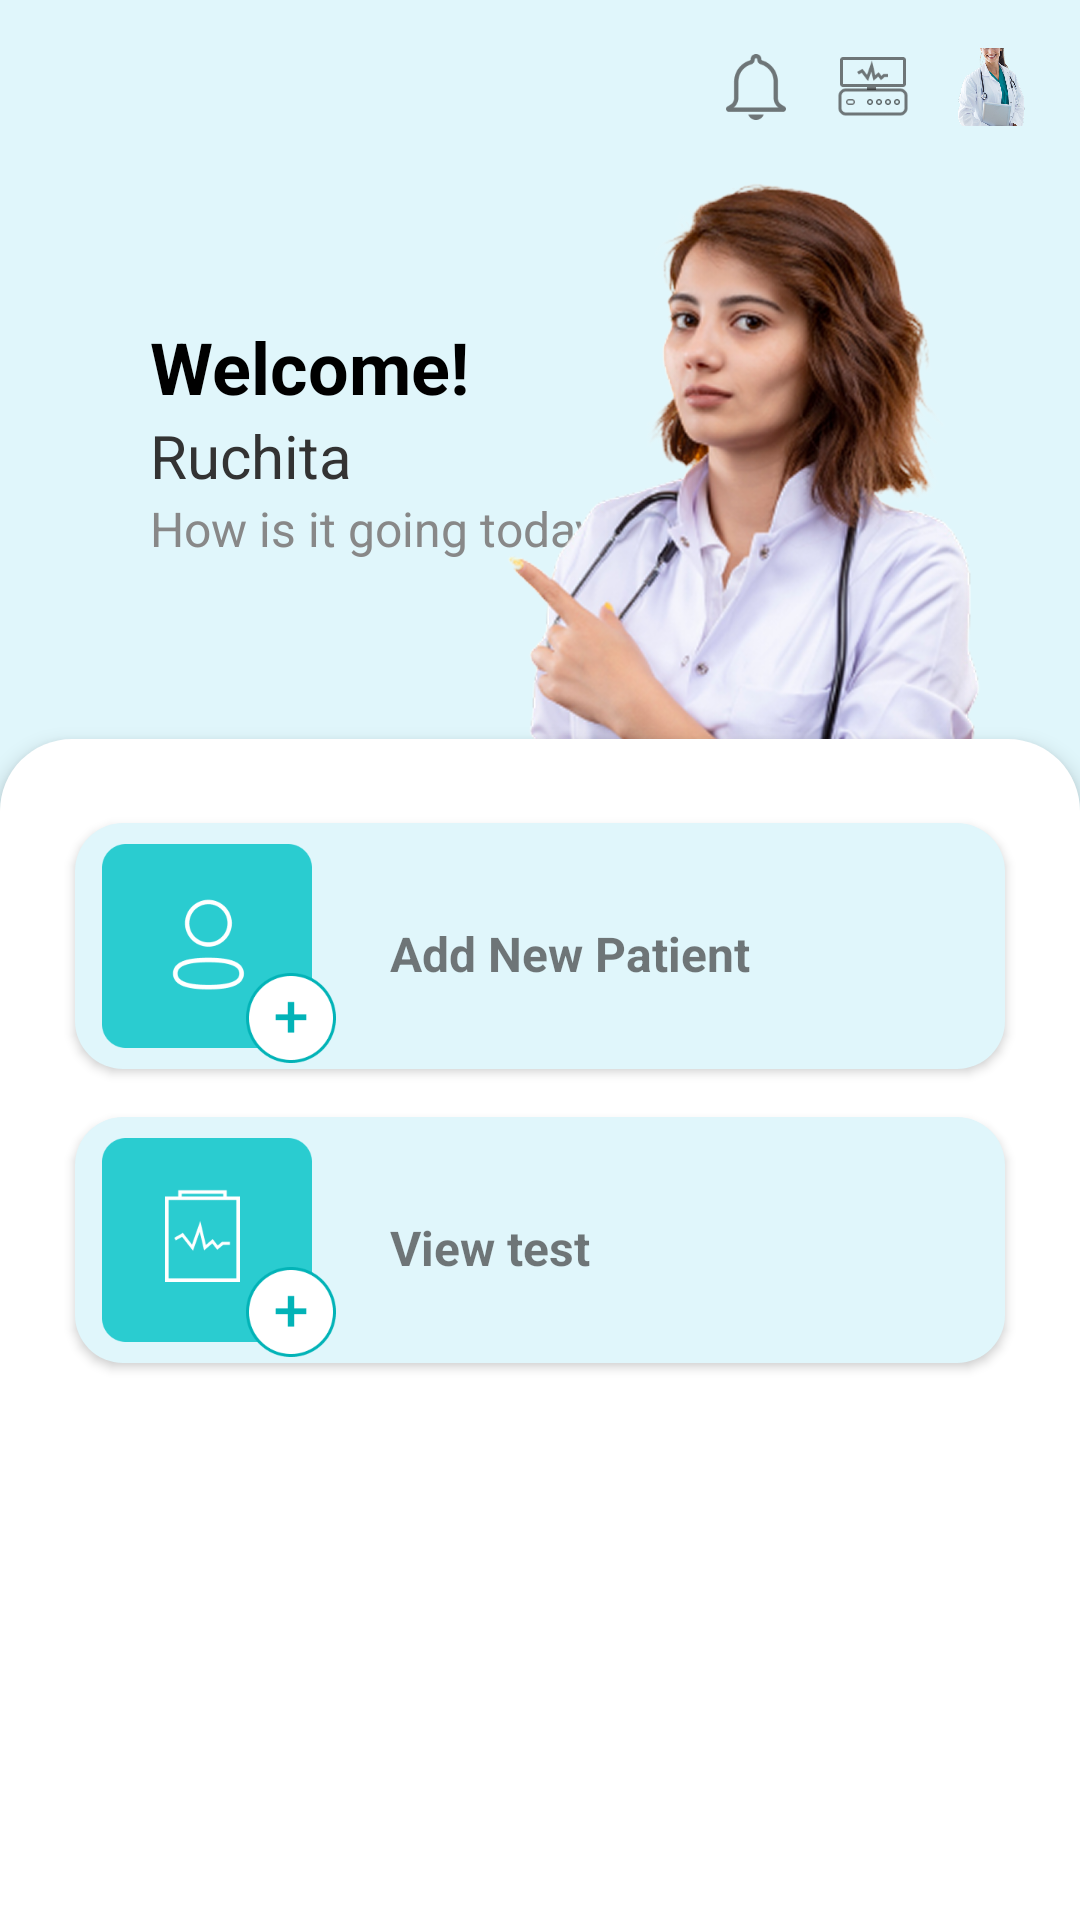

Icon click points for this 1080px×1920px phone screenshot, format (x,y):
add user: (219,953)
device info: (873,86)
notification: (756,87)
